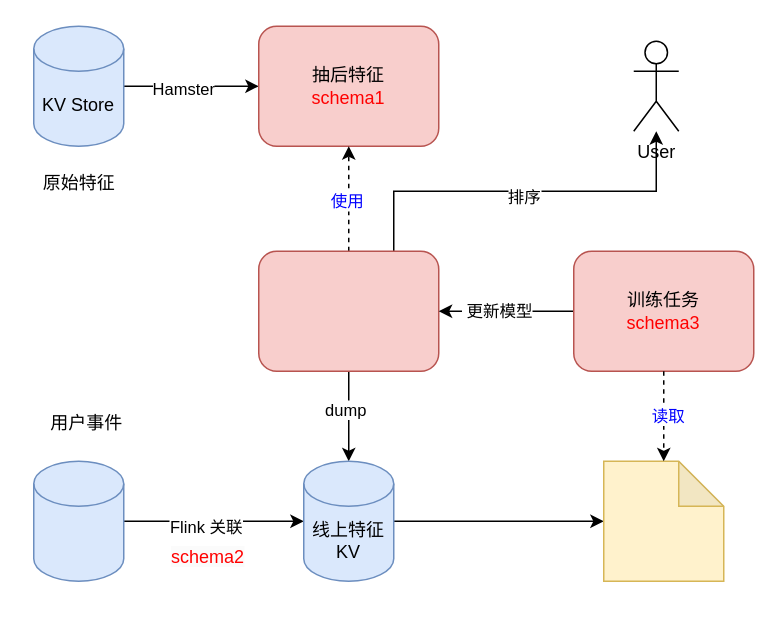
The diagram is 780 pixels wide and 623 high, and some of its shapes have lost their labels. The box of each missing label's shape, as (x1, y1, x2, y2) in pixels:
MQ Store: (32, 460, 124, 581)
推理模型: (257, 250, 439, 371)
样本 OSS: (602, 460, 724, 581)
